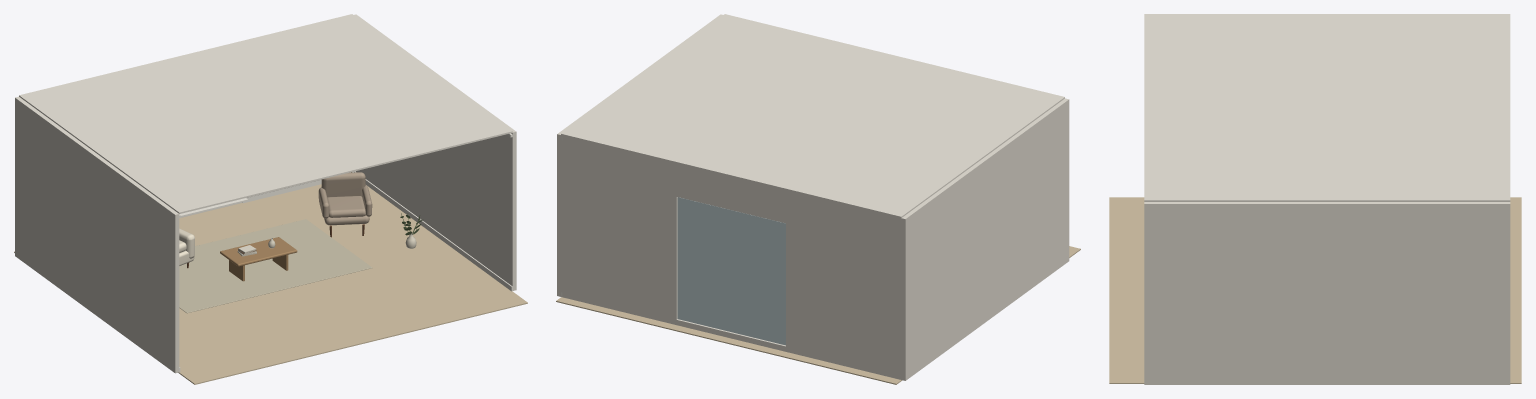
Rendered from living.glb.
The picture shows the model from 3 angles, left to right: view 1: azimuth 30°, elevation 25°; view 2: azimuth 150°, elevation 25°; view 3: azimuth 270°, elevation 25°; orthographic projection. The views are drawn at different scales.
Parts seen in each view (by area): view 1: CEILING_MATERIAL, WALL_MATERIAL, FLOOR_MATERIAL, RUG_FIXED, ARMCHAIR_UPHOLSTERY, TRIM, TIMBER, SOFA_UPHOLSTERY; view 2: WALL_MATERIAL, CEILING_MATERIAL, GLASS_VIEW, FLOOR_MATERIAL; view 3: CEILING_MATERIAL, WALL_MATERIAL, FLOOR_MATERIAL.
Part boxes in pixels (x1=…): CEILING_MATERIAL: x1=19, y1=14, x2=512, y2=213; WALL_MATERIAL: x1=15, y1=14, x2=516, y2=373; FLOOR_MATERIAL: x1=14, y1=184, x2=527, y2=384; RUG_FIXED: x1=179, y1=219, x2=372, y2=313; ARMCHAIR_UPHOLSTERY: x1=318, y1=172, x2=372, y2=225; TRIM: x1=178, y1=133, x2=512, y2=372; TIMBER: x1=220, y1=237, x2=297, y2=281; SOFA_UPHOLSTERY: x1=179, y1=228, x2=194, y2=265; WALL_MATERIAL: x1=557, y1=14, x2=1069, y2=380; CEILING_MATERIAL: x1=561, y1=14, x2=1064, y2=217; GLASS_VIEW: x1=677, y1=197, x2=785, y2=345; FLOOR_MATERIAL: x1=556, y1=246, x2=1080, y2=384; CEILING_MATERIAL: x1=1144, y1=14, x2=1510, y2=201; WALL_MATERIAL: x1=1144, y1=14, x2=1510, y2=384; FLOOR_MATERIAL: x1=1109, y1=197, x2=1521, y2=383.
Bounding box in the file's own units: 6.76 × 3.05 × 6.2.
